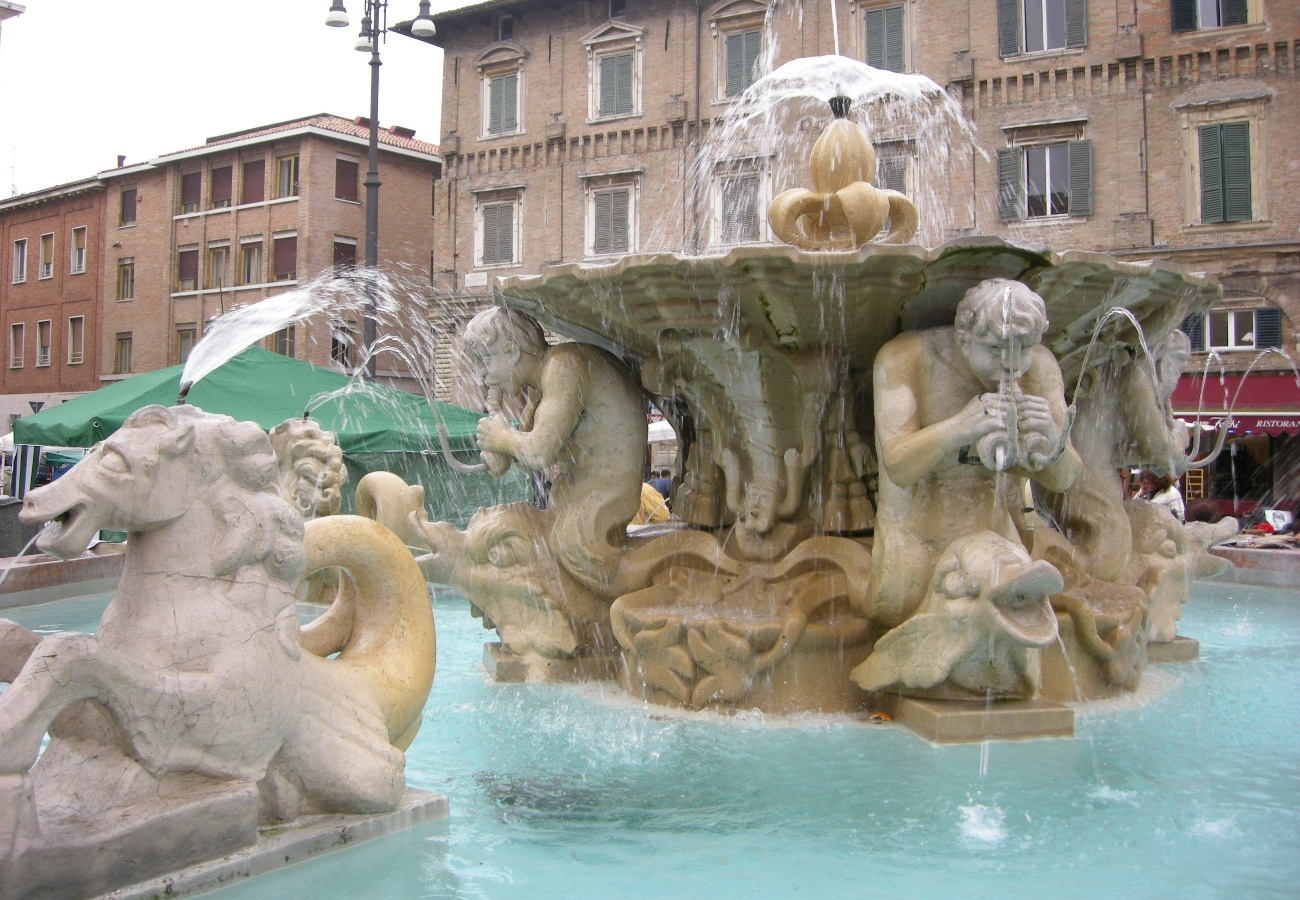Fontana Piazza del Popolo: (459, 232, 1218, 745)
